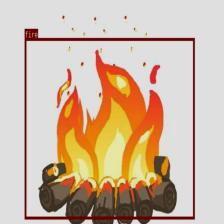fire: (24, 38, 194, 219)
